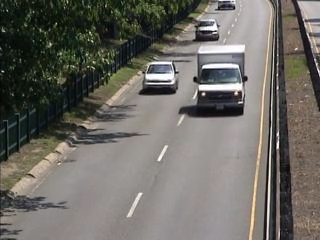car: (141, 60, 183, 94), (193, 16, 219, 45), (215, 1, 239, 11)
truck: (191, 44, 249, 119)
